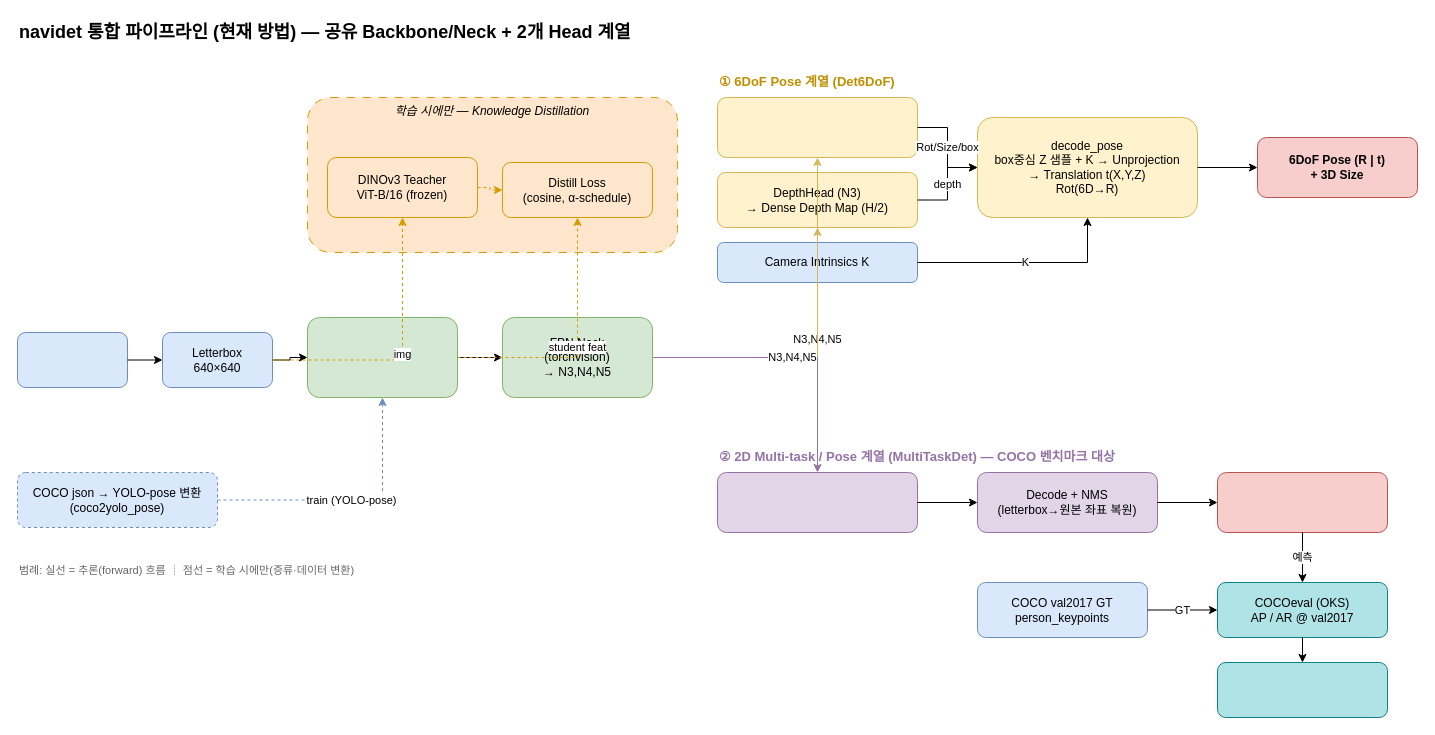
The diagram is 1435 pixels wide and 735 high, and some of its shapes have lost their labels. Each missing label, with the centre of its shape:
"Backbone timm CSP (n/s/m/l/x) → P3,P4,P5" goes at point 382,357.
"MultiTaskHead box+cls / keypoints (17×3, COCO)" goes at point 817,502.
"Persons + 17 keypoints (score 포함)" goes at point 1302,502.
"Pose6DoFHead 2D box+cls / Rotation(6D) / 3D Size" goes at point 817,127.
"RGB 입력 (예: 1920×1080)" goes at point 72,360.
"vs Published (YOLOv8-pose / HRNet / ViTPose …)" goes at point 1302,690.
